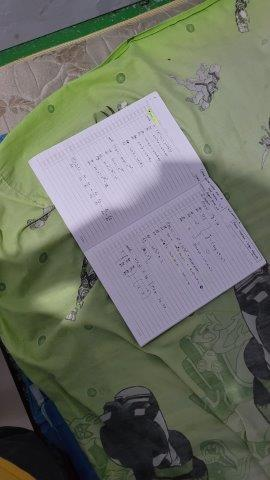kertas: (27, 92, 267, 346)
